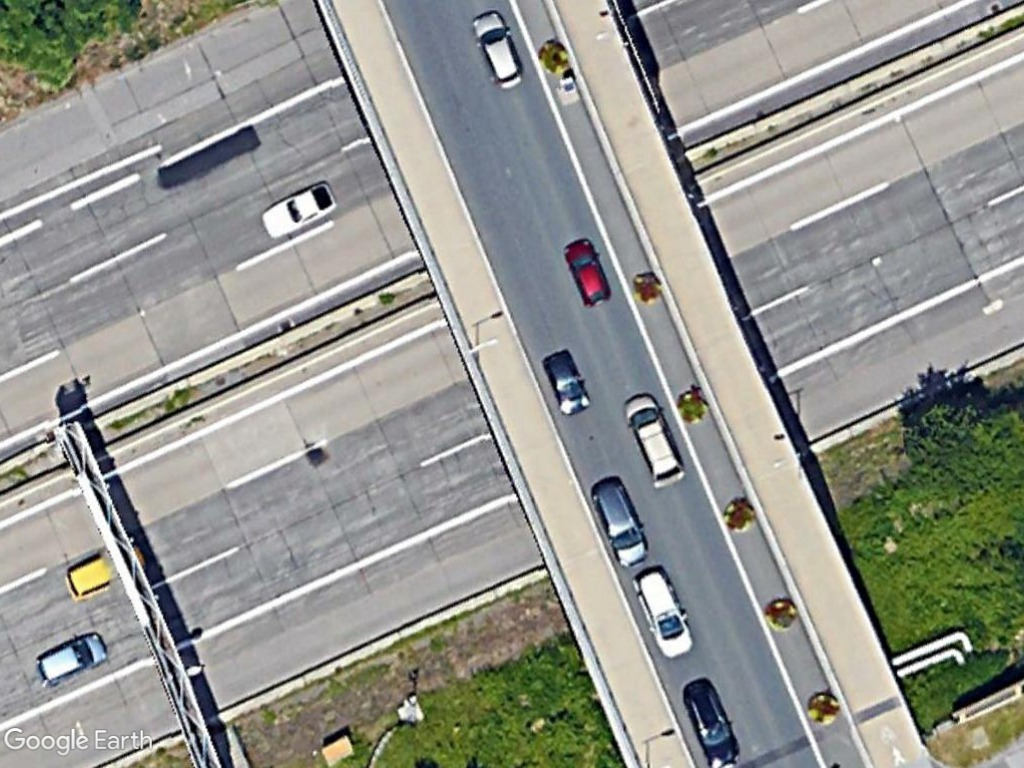car: (585, 473, 654, 575), (626, 562, 698, 658), (30, 623, 116, 696), (682, 676, 746, 768), (254, 176, 340, 243), (468, 7, 525, 96), (560, 236, 617, 310), (537, 347, 593, 421)
van: (620, 388, 686, 489)
